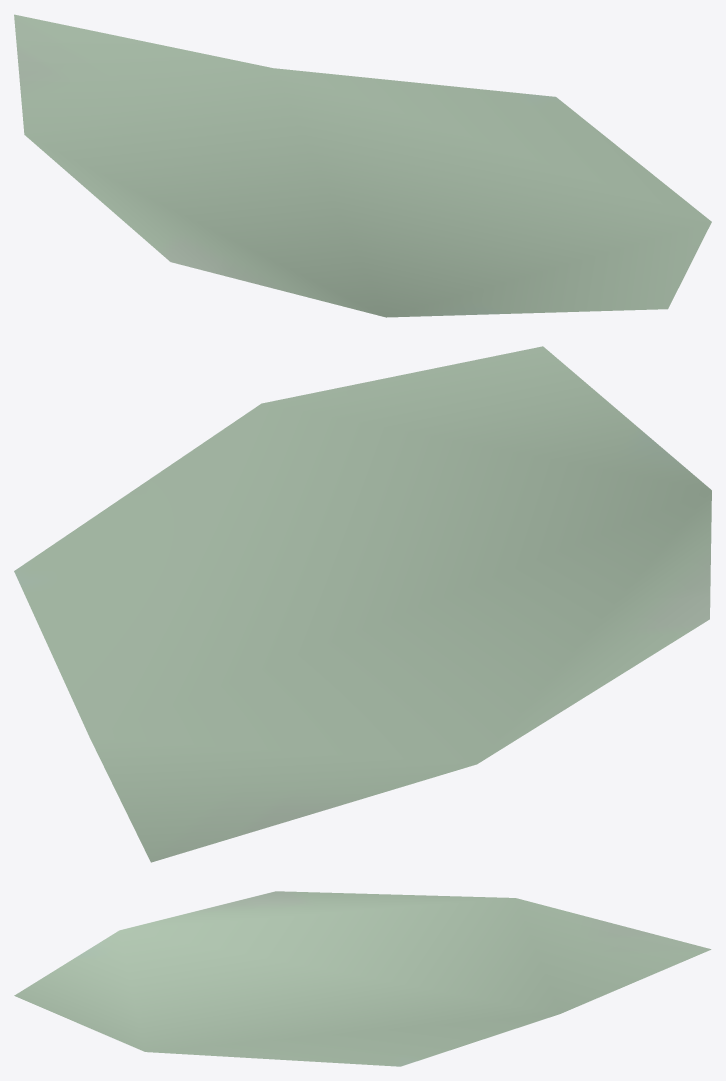
The model's file is TROLLHOLE02_HOLECAP135.fbx.
3 renders of one model, top to bottom at view 1: azimuth 30°, elevation 25°; view 2: azimuth 150°, elevation 25°; view 3: azimuth 270°, elevation 25°, orthographic. The views are drawn at different scales.
Visible parts, largest first — view 1: TROLLHOLE02_HOLECAP135; view 2: TROLLHOLE02_HOLECAP135; view 3: TROLLHOLE02_HOLECAP135.
Boxes of the visible parts, box(x1,y1,x2,y2) form: TROLLHOLE02_HOLECAP135: box(14, 14, 711, 317); TROLLHOLE02_HOLECAP135: box(14, 346, 711, 862); TROLLHOLE02_HOLECAP135: box(14, 891, 711, 1066).
Bounding box in the file's own units: 16918 × 1123 × 30069.
Materials: 1 (1 with a texture image).
